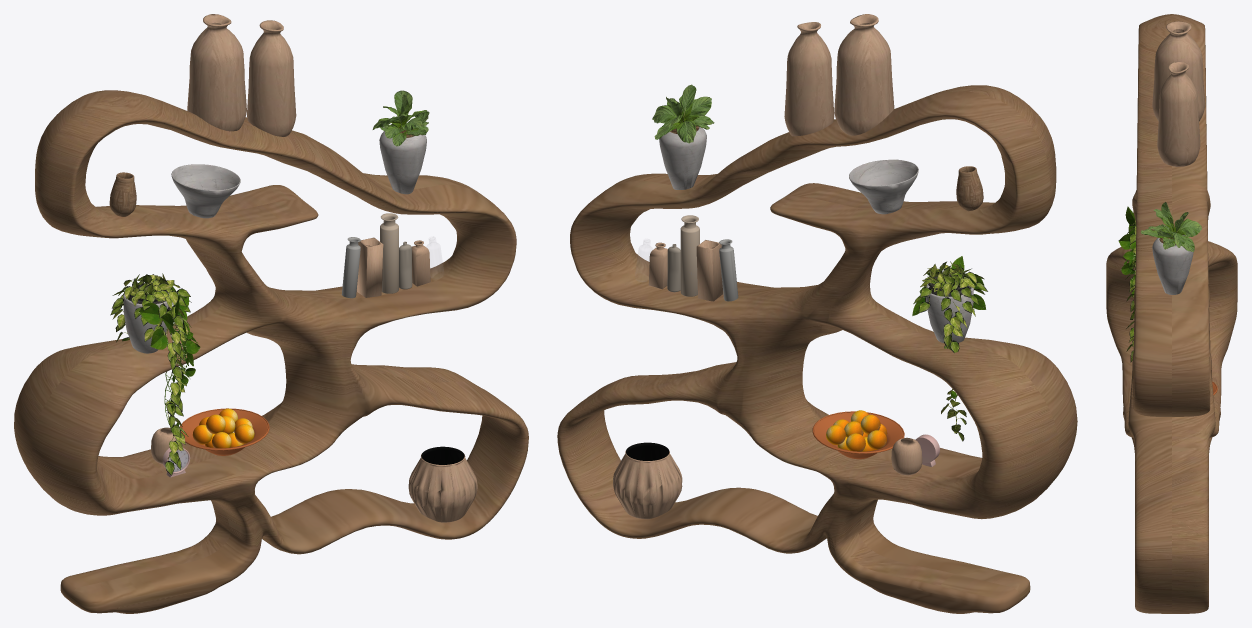
The model's file is bookcase-lite.glb.
The picture shows the model from 3 angles, left to right: view 1: azimuth 30°, elevation 25°; view 2: azimuth 150°, elevation 25°; view 3: azimuth 270°, elevation 25°; orthographic projection. The views are drawn at different scales.
Visible parts, largest first — view 1: Cube_Oakwood_0, Cylinder.002_WoodVeneer_0, Cylinder.007_PolishedQuartize_0, Cylinder.003_Bottle2_0, Plant1_leaf2_smaller_clean_0, Plant1_leaf1_smaller_clean_0, Plant1_Color_F18_0, Cylinder.001_Orange_0, Plant2_Material__7_0, Cylinder.001_Material_0, Cylinder.008_Wood2V_0; view 2: Cube_Oakwood_0, Cylinder.002_WoodVeneer_0, Cylinder.007_PolishedQuartize_0, Cylinder.003_Bottle2_0, Plant2_Material__7_0, Cylinder.001_Orange_0, Plant1_leaf2_smaller_clean_0, Cylinder.001_Material_0, Plant1_leaf1_smaller_clean_0, Cylinder.008_Wood2V_0; view 3: Cube_Oakwood_0, Cylinder.002_WoodVeneer_0, Cylinder.007_PolishedQuartize_0, Plant2_Material__7_0, Plant1_Color_F18_0, Plant1_leaf2_smaller_clean_0.
Part boxes in pixels (x1,y1,x2,y2): Cube_Oakwood_0: [14, 90, 528, 613]; Cylinder.002_WoodVeneer_0: [151, 14, 477, 522]; Cylinder.007_PolishedQuartize_0: [123, 129, 426, 353]; Cylinder.003_Bottle2_0: [341, 213, 412, 298]; Plant1_leaf2_smaller_clean_0: [110, 274, 191, 475]; Plant1_leaf1_smaller_clean_0: [112, 273, 188, 460]; Plant1_Color_F18_0: [139, 284, 200, 426]; Cylinder.001_Orange_0: [192, 408, 254, 448]; Plant2_Material__7_0: [372, 90, 429, 146]; Cylinder.001_Material_0: [179, 408, 269, 455]; Cylinder.008_Wood2V_0: [109, 172, 136, 216]; Cube_Oakwood_0: [557, 85, 1077, 613]; Cylinder.002_WoodVeneer_0: [613, 14, 922, 519]; Cylinder.007_PolishedQuartize_0: [659, 127, 973, 342]; Cylinder.003_Bottle2_0: [667, 215, 738, 301]; Plant2_Material__7_0: [652, 84, 714, 143]; Cylinder.001_Orange_0: [826, 410, 887, 451]; Plant1_leaf2_smaller_clean_0: [913, 261, 987, 441]; Cylinder.001_Material_0: [812, 411, 904, 459]; Plant1_leaf1_smaller_clean_0: [920, 261, 976, 433]; Cylinder.008_Wood2V_0: [956, 166, 983, 211]; Cube_Oakwood_0: [1106, 14, 1237, 613]; Cylinder.002_WoodVeneer_0: [1152, 21, 1205, 166]; Cylinder.007_PolishedQuartize_0: [1152, 235, 1193, 294]; Plant2_Material__7_0: [1140, 202, 1201, 251]; Plant1_Color_F18_0: [1118, 206, 1135, 311]; Plant1_leaf2_smaller_clean_0: [1125, 220, 1136, 362].
Size of the model in its own units: 2.22 by 2.48 by 0.6015.
17 materials, 17 textured.
